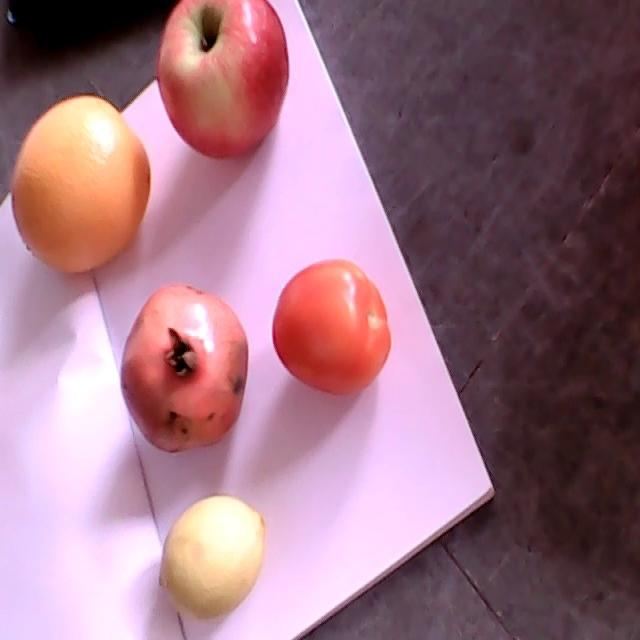apple: (156, 0, 290, 158)
lemon: (158, 494, 266, 616)
orange: (12, 94, 150, 276)
pomegranate: (121, 286, 248, 453)
tomato: (273, 258, 391, 394)
